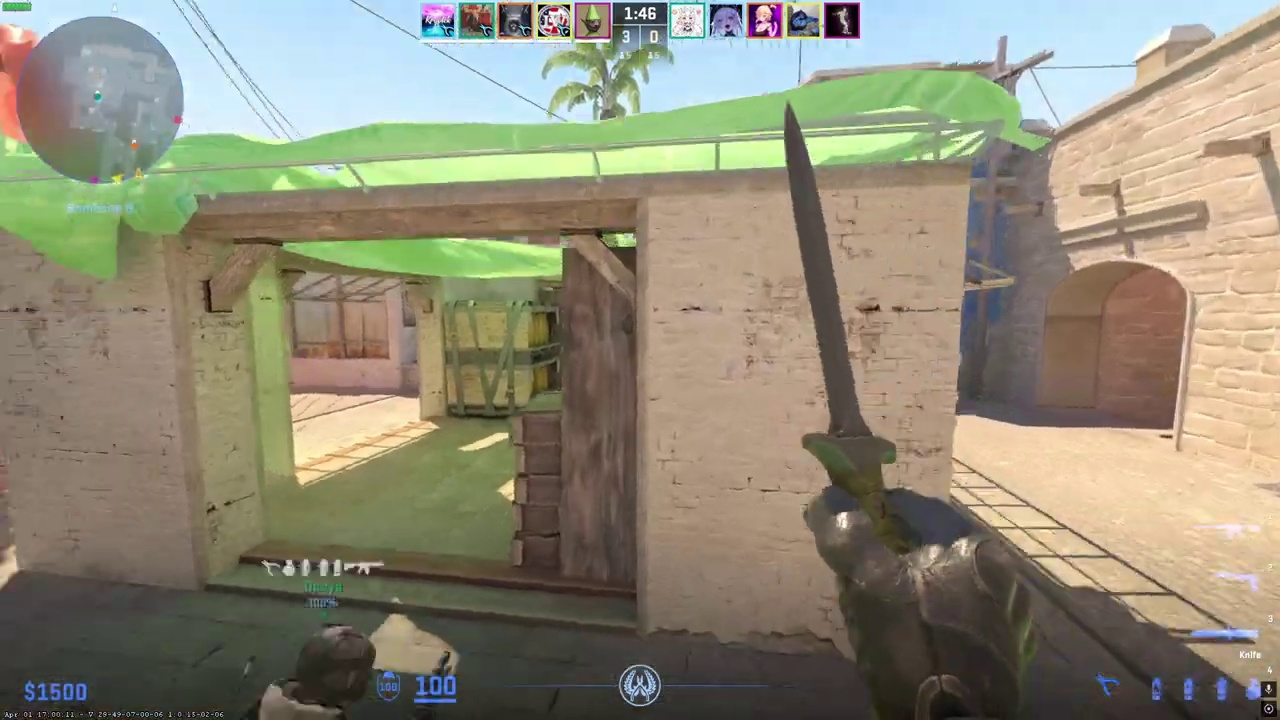CT: (217, 625, 427, 720)
